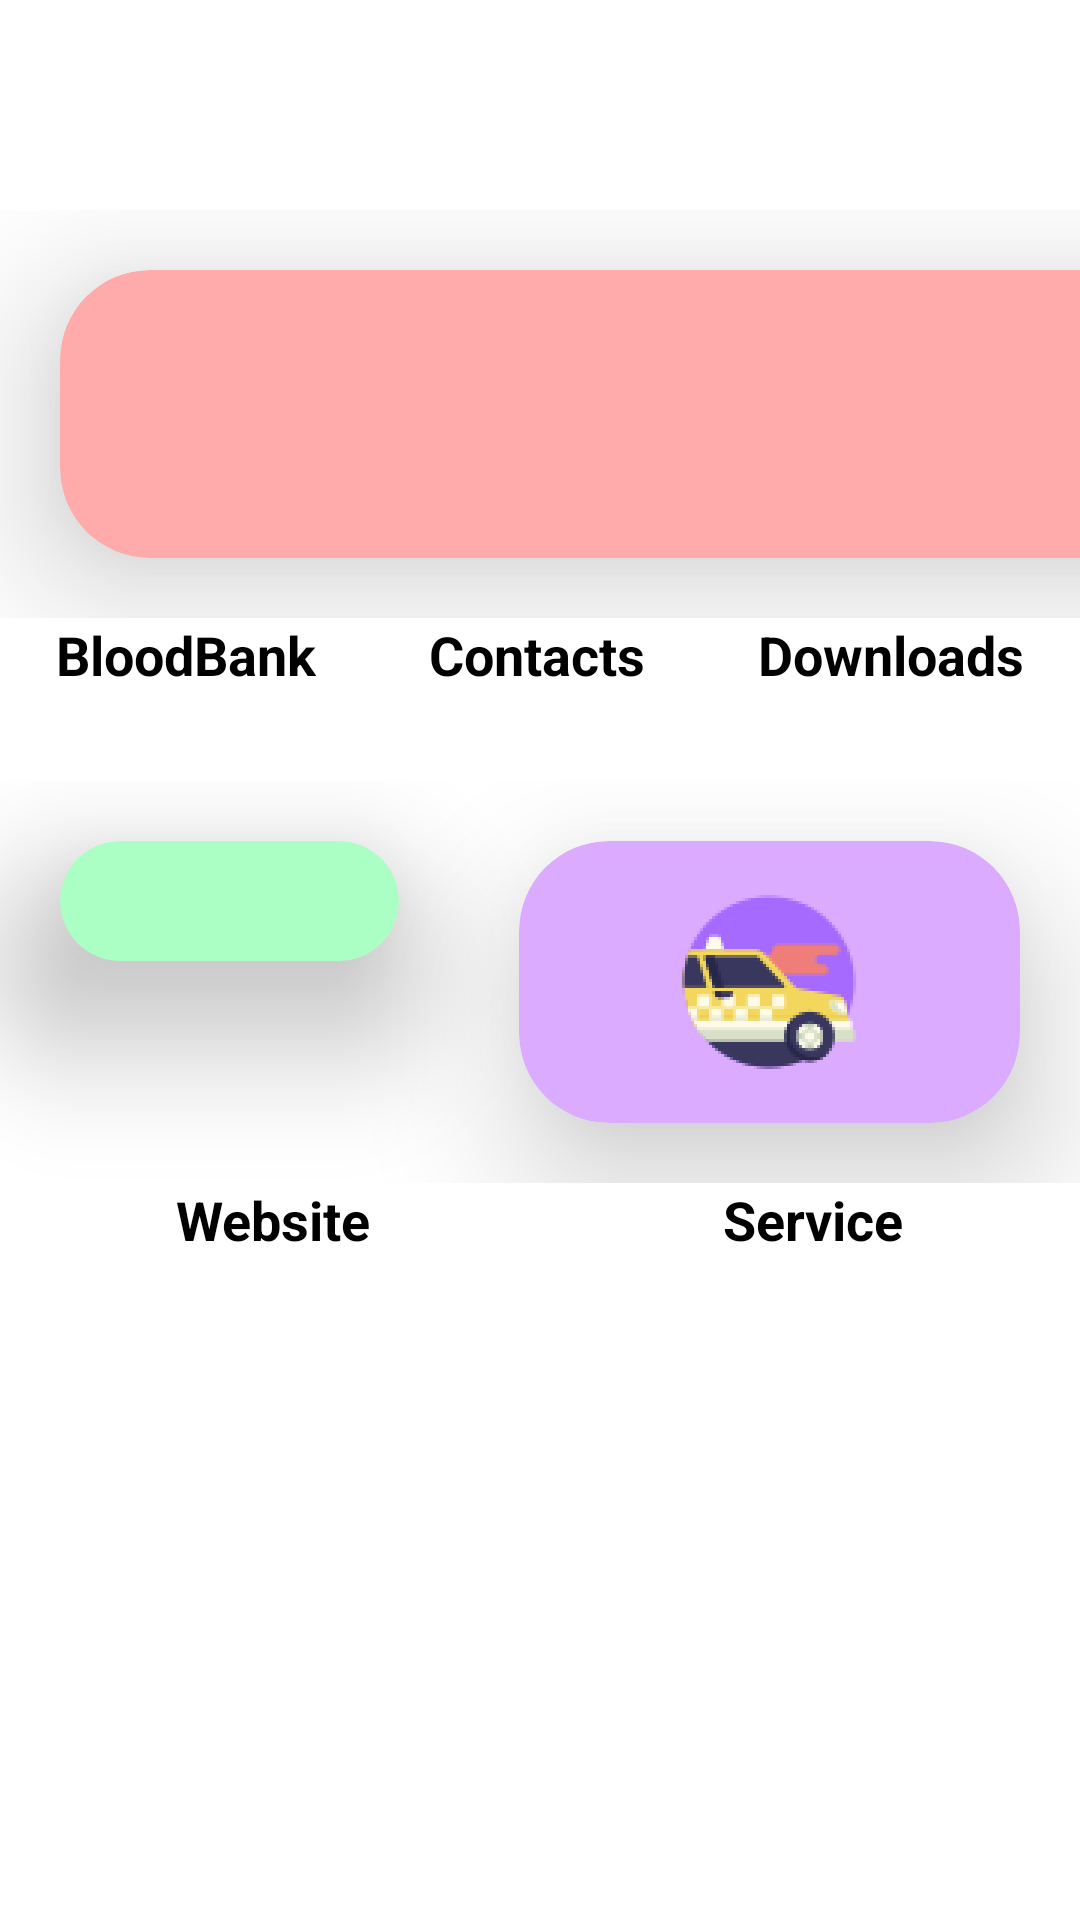

Named icons in this screenshot (1080px×1920px) and their bounding boxes, (x1, y1, x2, y2):
taxi: (682, 895, 856, 1069)
